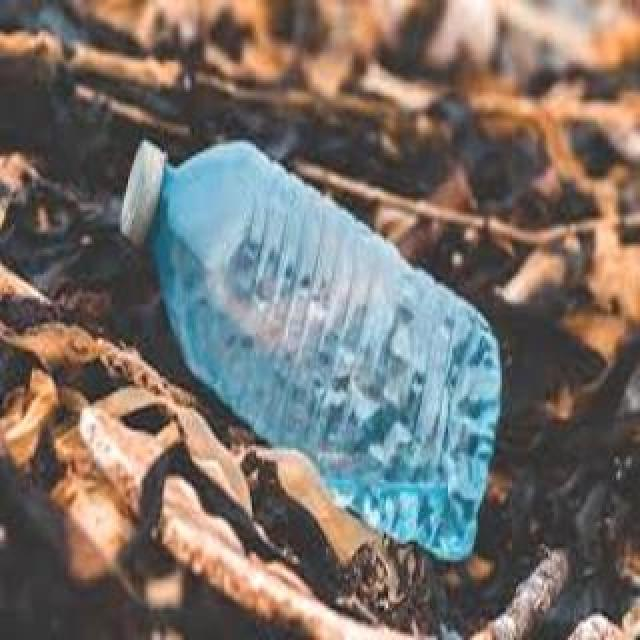Pet_Bottle: (117, 130, 505, 566)
